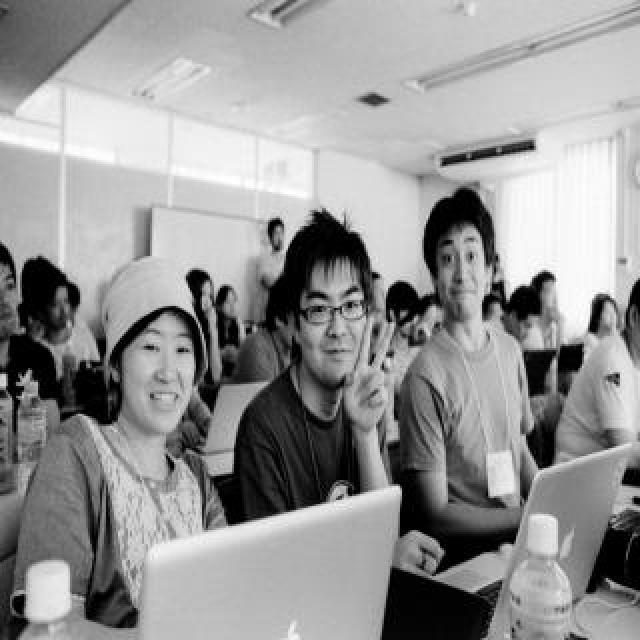laptop_computer: (110, 478, 420, 640), (474, 450, 636, 640)
